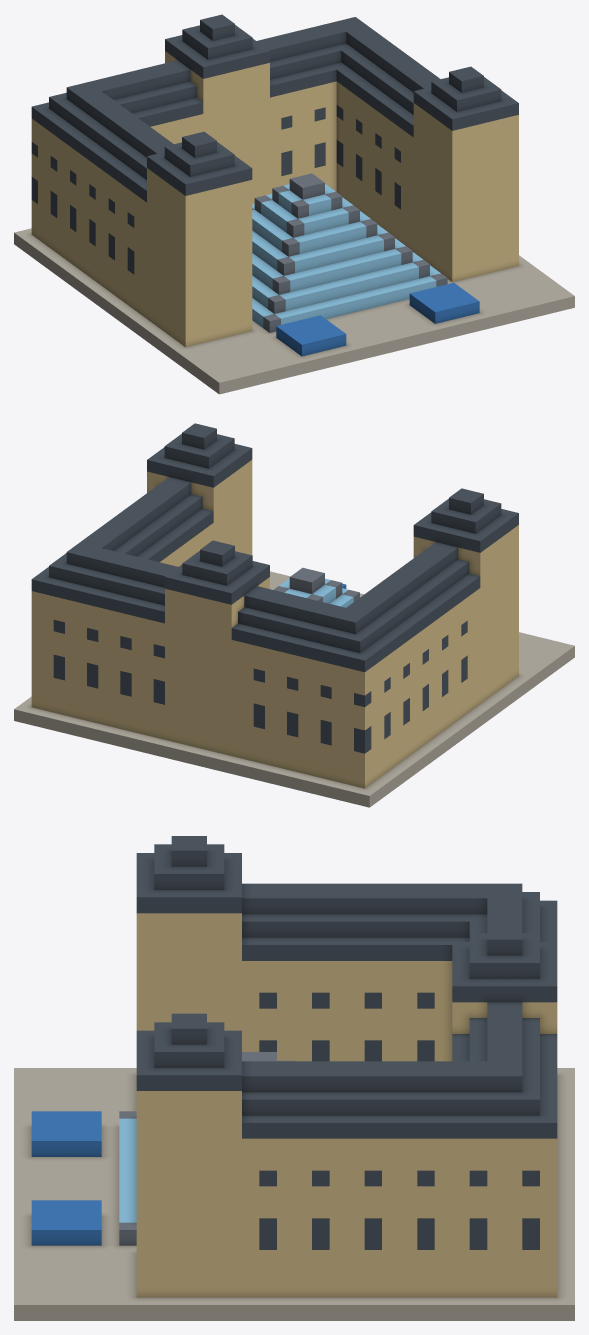
File: w_louvre.glb
3 views of the same model, one above another, from view 1: azimuth 30°, elevation 25°; view 2: azimuth 150°, elevation 25°; view 3: azimuth 270°, elevation 25° (orthographic). The views are drawn at different scales.
Parts seen in each view (by area): view 1: w_louvre_body; view 2: w_louvre_body; view 3: w_louvre_body.
Boxes of the visible parts, x1,y1,x2,y2 form: w_louvre_body: [14, 14, 574, 394]; w_louvre_body: [14, 423, 574, 807]; w_louvre_body: [14, 836, 574, 1320].
Size of the model in its own units: 2 by 1.06 by 2.
Materials: 1 (1 with a texture image).
